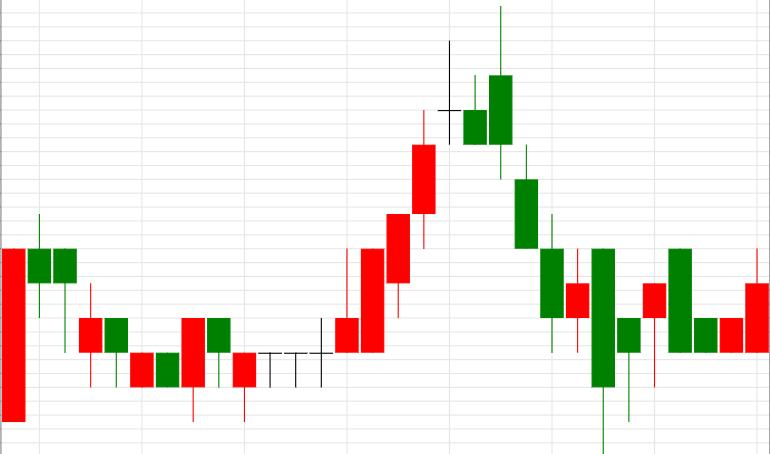evening_star_fall: (361, 39, 488, 353)
hammer_rise: (489, 6, 641, 454)
